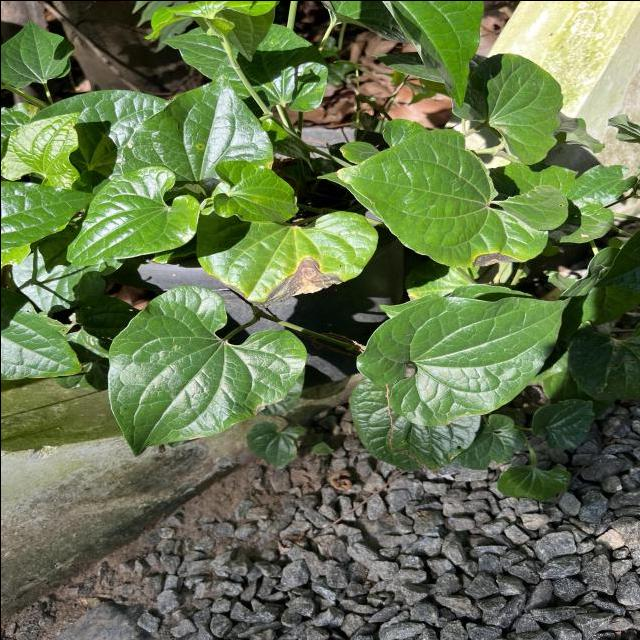Piper longum: (103, 282, 310, 458), (352, 290, 574, 430), (116, 68, 276, 178), (63, 162, 203, 268), (450, 49, 566, 165), (210, 156, 300, 224)
